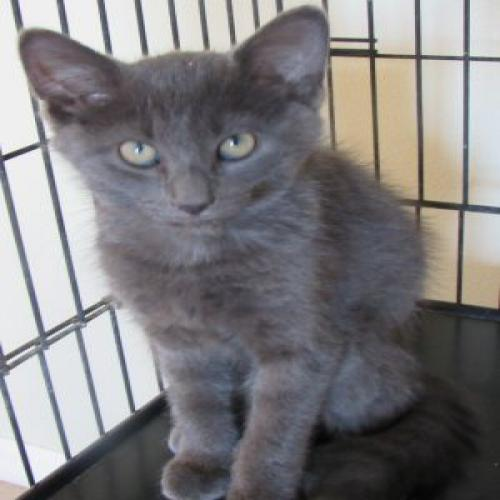rblue: (21, 6, 344, 250)
